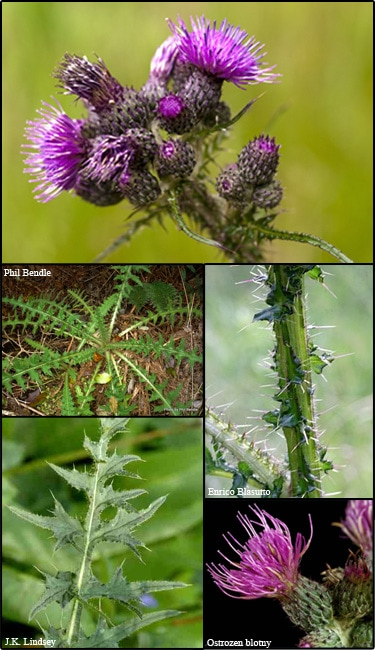thistle: (220, 508, 339, 625), (165, 22, 269, 116), (23, 111, 91, 190)
